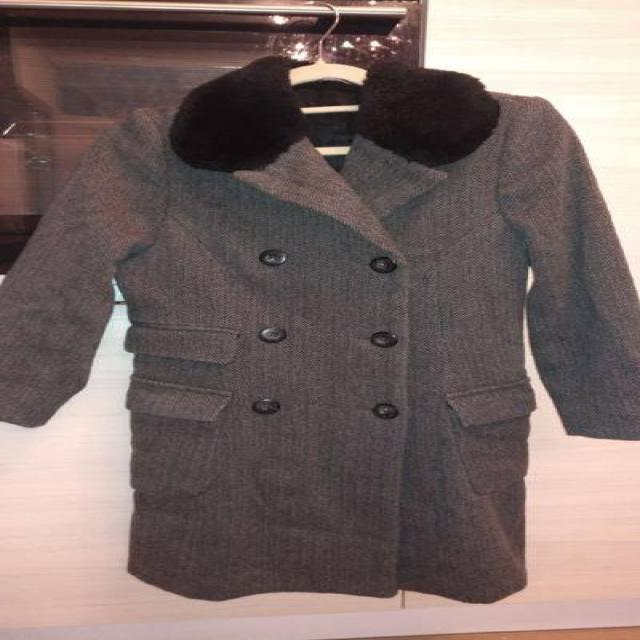Clothes -Biodegradable-: (0, 52, 640, 604)
